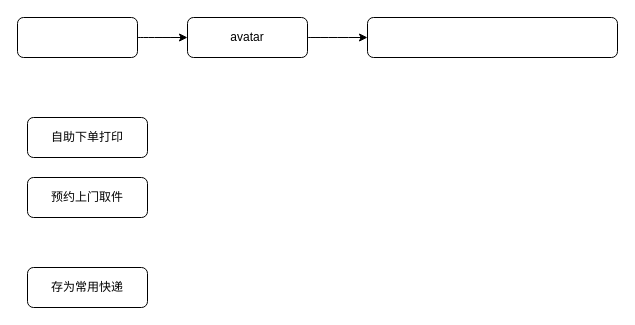
The diagram is 635 pixels wide and 325 high, and some of its shapes have lost their labels. The centre of each missing label's shape, as x and y in pixels:
ATS: the point at 77,37
这个问题暂时先不解决，等api到期了再解决: the point at 492,37
